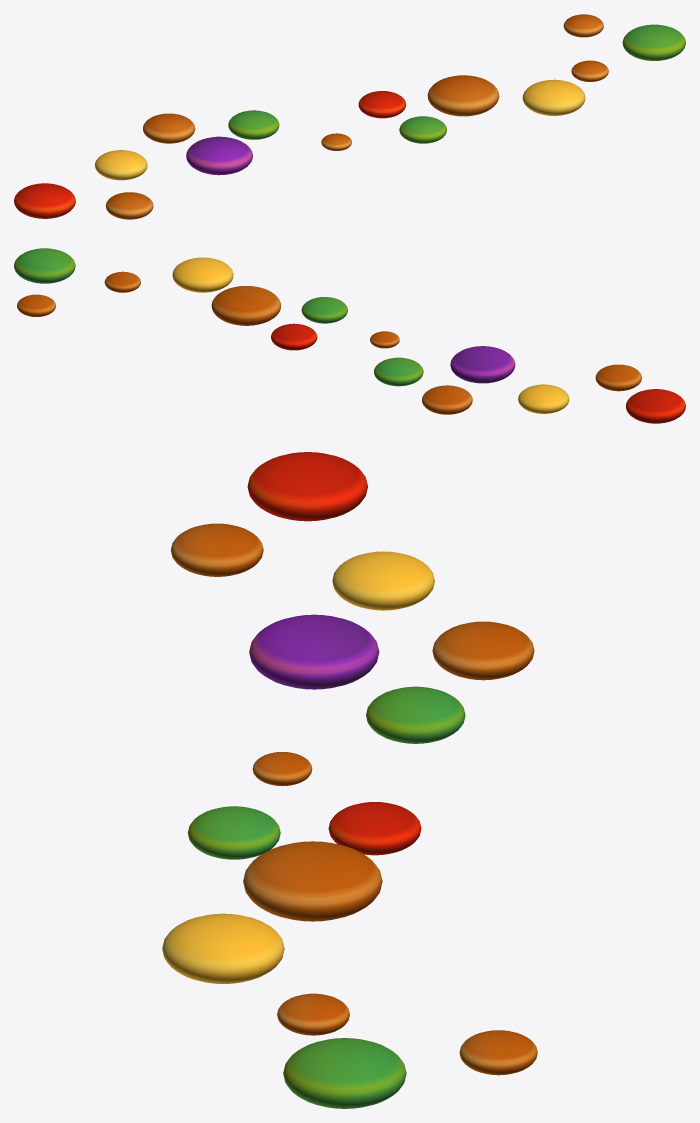
Rendered from Bonibon_Road_01.fbx.
3 views of the same model, one above another, from view 1: azimuth 30°, elevation 25°; view 2: azimuth 150°, elevation 25°; view 3: azimuth 270°, elevation 25° (orthographic). The views are drawn at different scales.
Visible parts, largest first — view 1: Bonibon_Road_01; view 2: Bonibon_Road_01; view 3: Bonibon_Road_01.
Boxes of the visible parts, x1,y1,x2,y2 form: Bonibon_Road_01: [14, 14, 685, 219]; Bonibon_Road_01: [14, 248, 685, 423]; Bonibon_Road_01: [162, 452, 537, 1108].
Bounding box in the file's own units: 1832 × 71.37 × 455.
